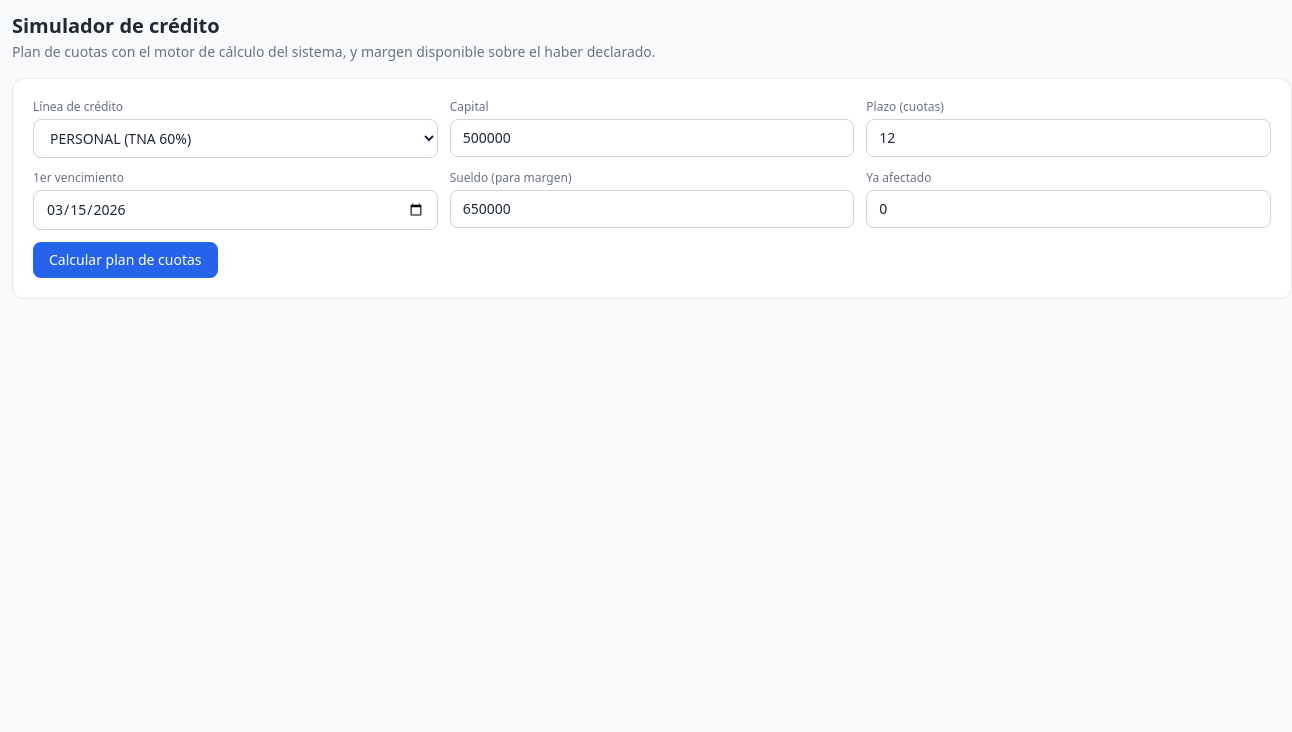
Test: Simulador de crédito › avisa cuando el margen no alcanza
The image size is (1292, 732).
Expected: the dropdown labelled "Línea de crédito" shows "PERSONAL (TNA 60%)", [33, 119, 438, 158]
Click the button "Calcular plan de cuotas" at (125, 260), box [33, 242, 218, 278]
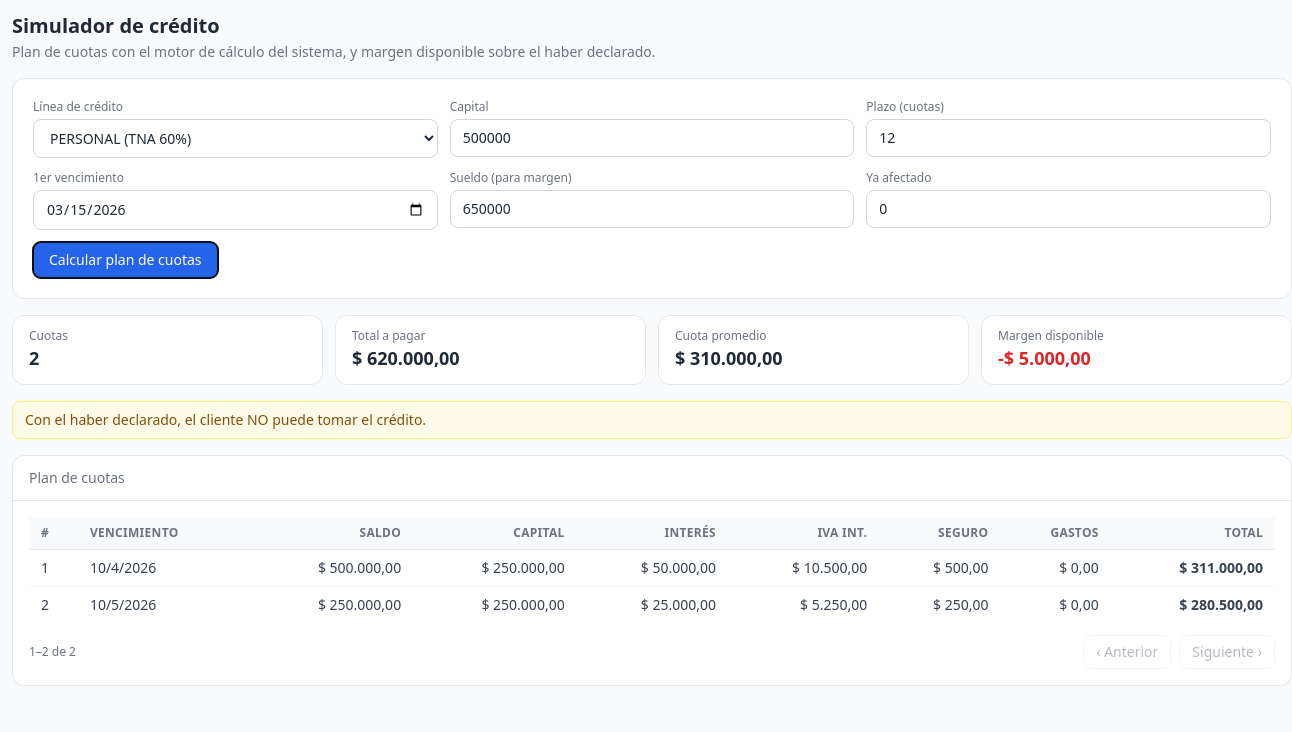
Now the text "NO puede tomar el crédito" is shown, box [25, 410, 426, 429]
